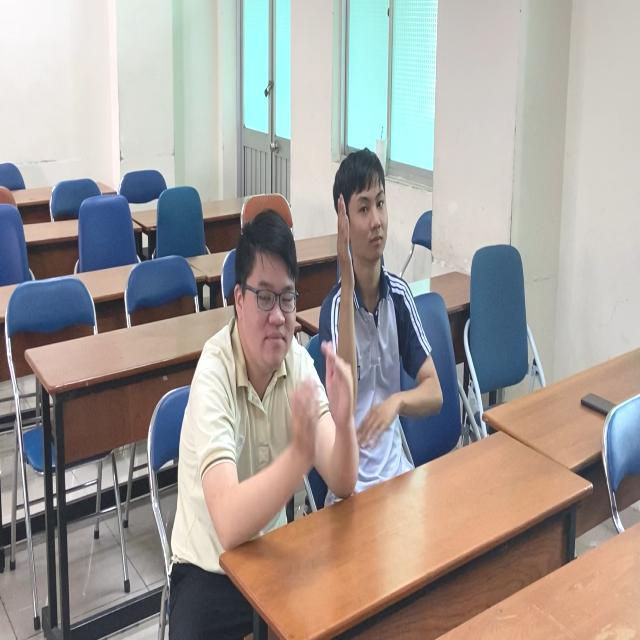raise_hand: (332, 123, 449, 495)
